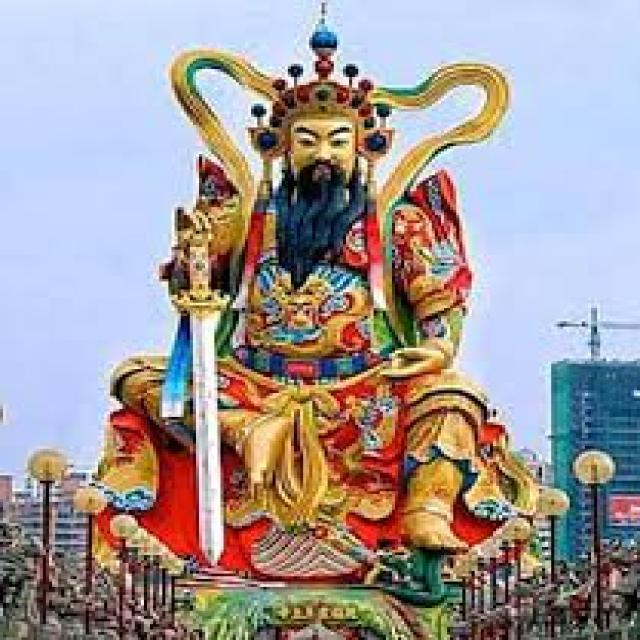Xuan wu: (145, 30, 498, 558)
